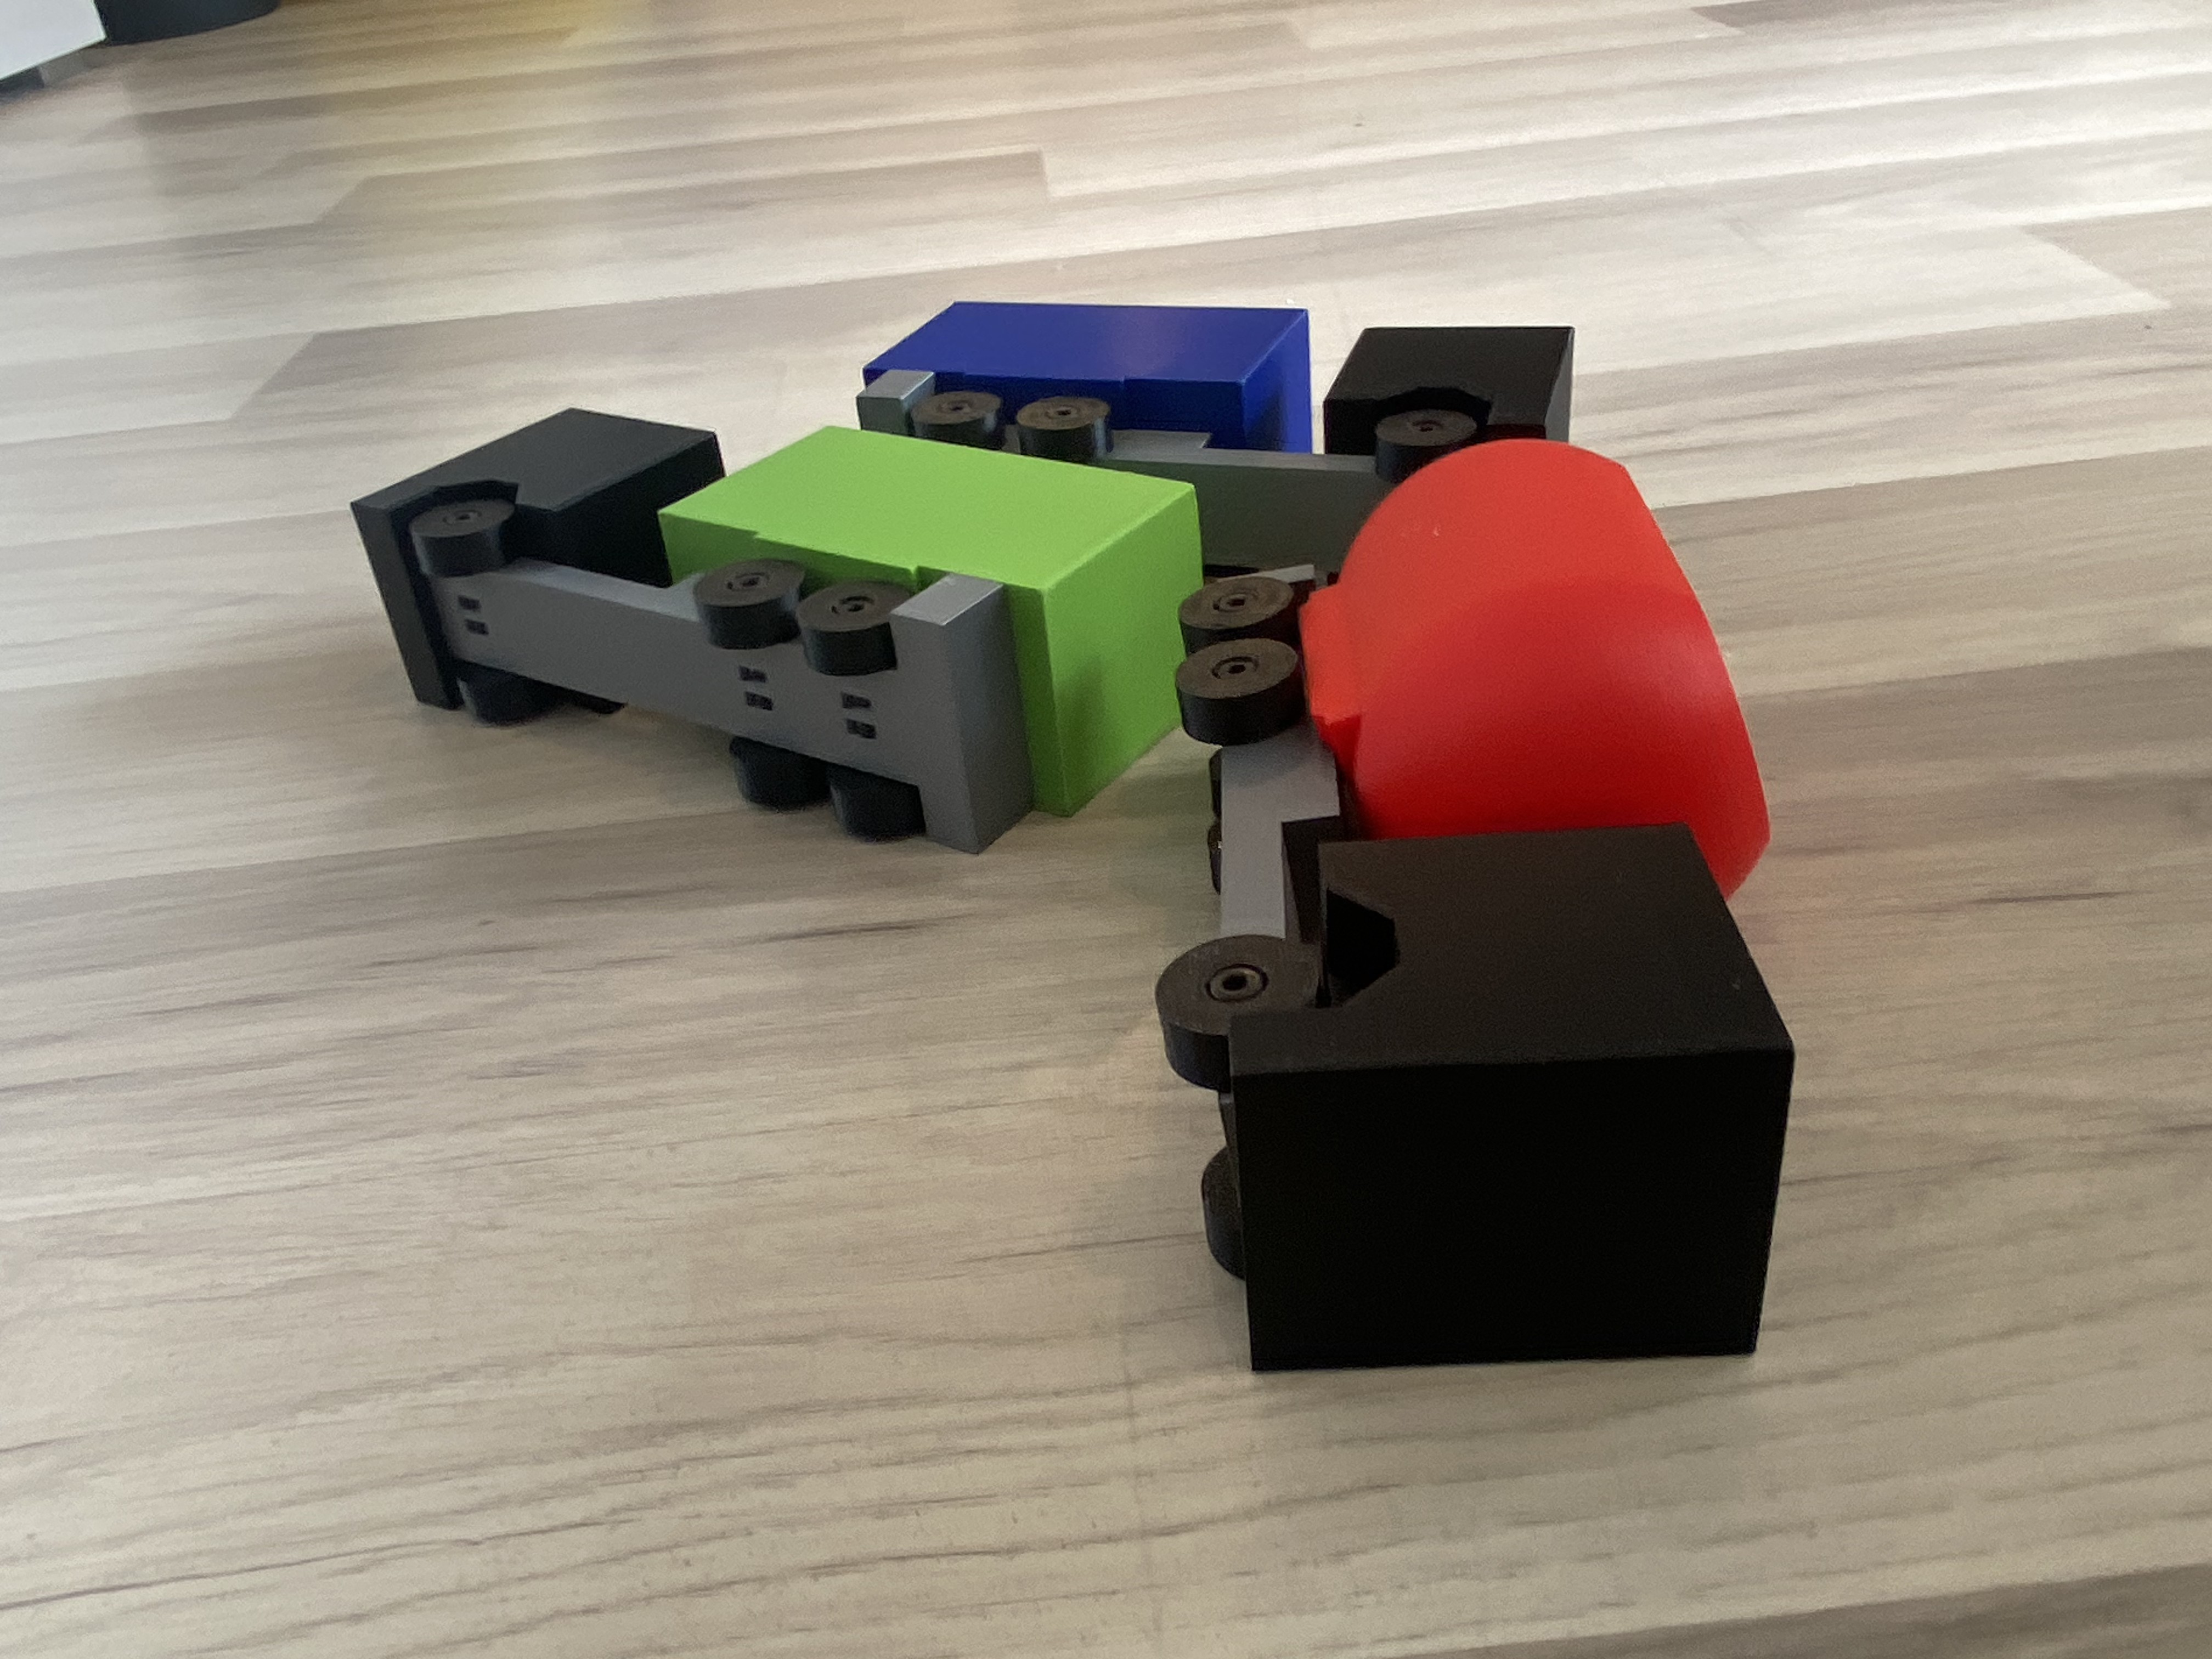blue_truck: (850, 293, 1571, 488)
green_truck: (519, 145, 991, 1002)
red_truck: (1146, 441, 1796, 1396)
